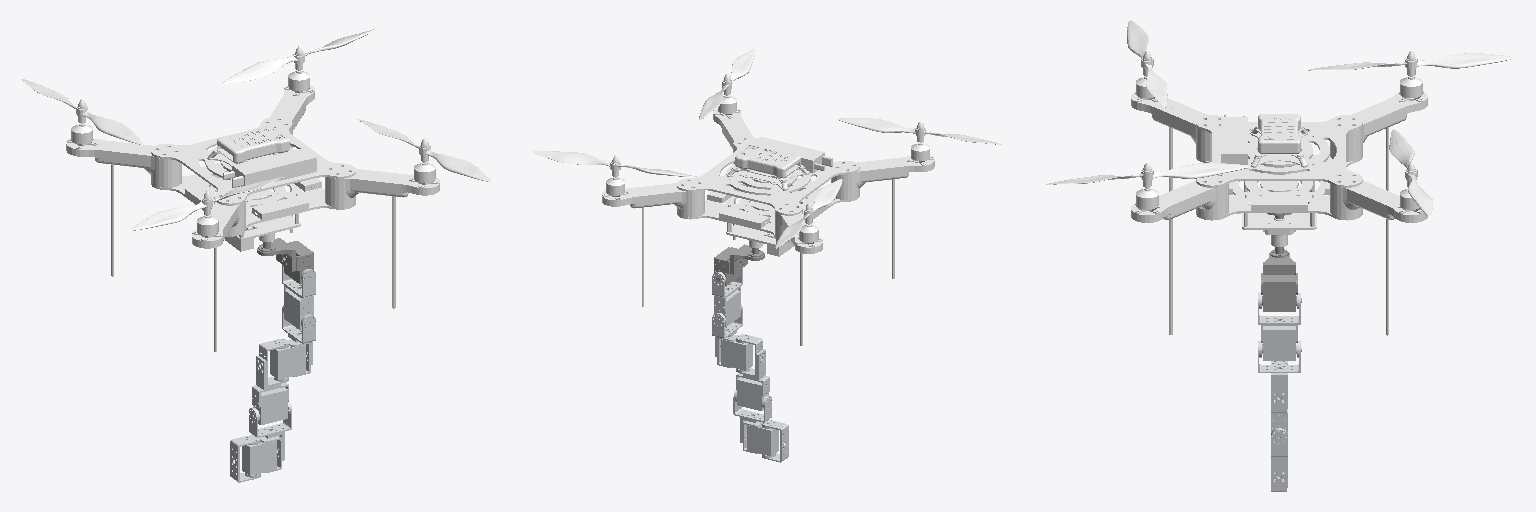
URDF robot description (hyper_robot2):
<?xml version="1.0" encoding="utf-8"?>
<!-- This URDF was automatically created by SolidWorks to URDF Exporter! Originally created by [author] ([email redacted]) 
     Commit Version: 1.6.0-4-g7f85cfe  Build Version: 1.6.7995.38578
     For more information, please see http://wiki.ros.org/sw_urdf_exporter -->
<robot
  name="hyper_robot2">
  <link
    name="base_link">
    <inertial>
      <origin
        xyz="-0.00080332 -0.0073137 -0.027846"
        rpy="0 0 0" />
      <mass
        value="1.4037" />
      <inertia
        ixx="0.0017764"
        ixy="-3.447E-06"
        ixz="2.1856E-07"
        iyy="0.0019607"
        iyz="2.7013E-07"
        izz="0.0032525" />
    </inertial>
    <visual>
      <origin
        xyz="0 0 0"
        rpy="0 0 0" />
      <geometry>
        <mesh
          filename="package://hyper_robot2/meshes/base_link.STL" />
      </geometry>
      <material
        name="">
        <color
          rgba="1 1 1 1" />
      </material>
    </visual>
    <collision>
      <origin
        xyz="0 0 0"
        rpy="0 0 0" />
      <geometry>
        <mesh
          filename="package://hyper_robot2/meshes/base_link.STL" />
      </geometry>
    </collision>
  </link>
  <link
    name="Link1">
    <inertial>
      <origin
        xyz="0.03091 3.5089E-05 -0.073107"
        rpy="0 0 0" />
      <mass
        value="0.11138" />
      <inertia
        ixx="2.6005E-05"
        ixy="-2.1401E-13"
        ixz="2.8039E-07"
        iyy="1.7177E-05"
        iyz="3.7239E-08"
        izz="1.71E-05" />
    </inertial>
    <visual>
      <origin
        xyz="0 0 0"
        rpy="0 0 0" />
      <geometry>
        <mesh
          filename="package://hyper_robot2/meshes/Link1.STL" />
      </geometry>
      <material
        name="">
        <color
          rgba="0.69804 0.69804 0.69804 1" />
      </material>
    </visual>
    <collision>
      <origin
        xyz="0 0 0"
        rpy="0 0 0" />
      <geometry>
        <mesh
          filename="package://hyper_robot2/meshes/Link1.STL" />
      </geometry>
    </collision>
  </link>
  <joint
    name="Joint0"
    type="continuous">
    <origin
      xyz="0.02 0 -0.07755"
      rpy="0 0 0" />
    <parent
      link="base_link" />
    <child
      link="Link1" />
    <axis
      xyz="0 0 1" />
  </joint>
  <link
    name="Link2">
    <inertial>
      <origin
        xyz="-1.2906E-15 0.044669 -7.8627E-06"
        rpy="0 0 0" />
      <mass
        value="0.089477" />
      <inertia
        ixx="2.6927E-05"
        ixy="2.4785E-19"
        ixz="-7.0271E-18"
        iyy="1.9359E-05"
        iyz="3.7239E-08"
        izz="1.3371E-05" />
    </inertial>
    <visual>
      <origin
        xyz="0 0 0"
        rpy="0 0 0" />
      <geometry>
        <mesh
          filename="package://hyper_robot2/meshes/Link2.STL" />
      </geometry>
      <material
        name="">
        <color
          rgba="0.89804 0.91765 0.92941 1" />
      </material>
    </visual>
    <collision>
      <origin
        xyz="0 0 0"
        rpy="0 0 0" />
      <geometry>
        <mesh
          filename="package://hyper_robot2/meshes/Link2.STL" />
      </geometry>
    </collision>
  </link>
  <joint
    name="Joint1"
    type="continuous">
    <origin
      xyz="0.0465 0 -0.1031"
      rpy="-1.5708 0 3.1416" />
    <parent
      link="Link1" />
    <child
      link="Link2" />
    <axis
      xyz="0 0 1" />
  </joint>
  <link
    name="Link3">
    <inertial>
      <origin
        xyz="0.010576 0.048595 3.4505E-05"
        rpy="0 0 0" />
      <mass
        value="0.092872" />
      <inertia
        ixx="2.0806E-05"
        ixy="1.9206E-07"
        ixz="1.1433E-18"
        iyy="1.7178E-05"
        iyz="-6.0089E-20"
        izz="2.3283E-05" />
    </inertial>
    <visual>
      <origin
        xyz="0 0 0"
        rpy="0 0 0" />
      <geometry>
        <mesh
          filename="package://hyper_robot2/meshes/Link3.STL" />
      </geometry>
      <material
        name="">
        <color
          rgba="0.89804 0.91765 0.92941 1" />
      </material>
    </visual>
    <collision>
      <origin
        xyz="0 0 0"
        rpy="0 0 0" />
      <geometry>
        <mesh
          filename="package://hyper_robot2/meshes/Link3.STL" />
      </geometry>
    </collision>
  </link>
  <joint
    name="Joint2"
    type="continuous">
    <origin
      xyz="0 0.06365 0"
      rpy="0 0 0" />
    <parent
      link="Link2" />
    <child
      link="Link3" />
    <axis
      xyz="0 0 1" />
  </joint>
  <link
    name="Link4">
    <inertial>
      <origin
        xyz="1.1274E-14 0.015686 0.069973"
        rpy="0 0 0" />
      <mass
        value="0.092872" />
      <inertia
        ixx="2.761E-05"
        ixy="1.2687E-20"
        ixz="-2.9881E-20"
        iyy="1.7538E-05"
        iyz="1.1758E-07"
        izz="1.6118E-05" />
    </inertial>
    <visual>
      <origin
        xyz="0 0 0"
        rpy="0 0 0" />
      <geometry>
        <mesh
          filename="package://hyper_robot2/meshes/Link4.STL" />
      </geometry>
      <material
        name="">
        <color
          rgba="0.89804 0.91765 0.92941 1" />
      </material>
    </visual>
    <collision>
      <origin
        xyz="0 0 0"
        rpy="0 0 0" />
      <geometry>
        <mesh
          filename="package://hyper_robot2/meshes/Link4.STL" />
      </geometry>
    </collision>
  </link>
  <joint
    name="Joint3"
    type="continuous">
    <origin
      xyz="0.02565 0.031 0"
      rpy="-1.5708 -1.5708 0" />
    <parent
      link="Link3" />
    <child
      link="Link4" />
    <axis
      xyz="0 0 1" />
  </joint>
  <link
    name="Link5">
    <inertial>
      <origin
        xyz="3.6611E-14 0.048595 -0.026541"
        rpy="0 0 0" />
      <mass
        value="0.092872" />
      <inertia
        ixx="2.761E-05"
        ixy="4.7957E-21"
        ixz="-4.0259E-20"
        iyy="1.7178E-05"
        iyz="-1.9206E-07"
        izz="1.6478E-05" />
    </inertial>
    <visual>
      <origin
        xyz="0 0 0"
        rpy="0 0 0" />
      <geometry>
        <mesh
          filename="package://hyper_robot2/meshes/Link5.STL" />
      </geometry>
      <material
        name="">
        <color
          rgba="0.89804 0.91765 0.92941 1" />
      </material>
    </visual>
    <collision>
      <origin
        xyz="0 0 0"
        rpy="0 0 0" />
      <geometry>
        <mesh
          filename="package://hyper_robot2/meshes/Link5.STL" />
      </geometry>
    </collision>
  </link>
  <joint
    name="Joint4"
    type="continuous">
    <origin
      xyz="0 0 0.09265"
      rpy="1.5708 0 0" />
    <parent
      link="Link4" />
    <child
      link="Link5" />
    <axis
      xyz="0 0 1" />
  </joint>
  <link
    name="Link6">
    <inertial>
      <origin
        xyz="3.652E-14 0.012025 0.0262"
        rpy="0 0 0" />
      <mass
        value="0.016021" />
      <inertia
        ixx="6.138E-06"
        ixy="6.3821E-22"
        ixz="2.3592E-21"
        iyy="5.3342E-06"
        iyz="1.9145E-21"
        izz="1.8104E-06" />
    </inertial>
    <visual>
      <origin
        xyz="0 0 0"
        rpy="0 0 0" />
      <geometry>
        <mesh
          filename="package://hyper_robot2/meshes/Link6.STL" />
      </geometry>
      <material
        name="">
        <color
          rgba="0.89804 0.91765 0.92941 1" />
      </material>
    </visual>
    <collision>
      <origin
        xyz="0 0 0"
        rpy="0 0 0" />
      <geometry>
        <mesh
          filename="package://hyper_robot2/meshes/Link6.STL" />
      </geometry>
    </collision>
  </link>
  <joint
    name="Joint5"
    type="continuous">
    <origin
      xyz="0 0.031 -0.04165"
      rpy="-1.5708 0 0" />
    <parent
      link="Link5" />
    <child
      link="Link6" />
    <axis
      xyz="0 0 1" />
  </joint>
</robot>

--- Facts derived from the render (not from the file) ---
3 views of the same robot in one strip: view 1: azimuth 30°, elevation 25°; view 2: azimuth 150°, elevation 25°; view 3: azimuth 270°, elevation 25° (orthographic).
Robot: hyper_robot2 — 7 links, 6 joints (6 continuous); root link base_link; default pose: all joints at 0.
Links seen in each view (by area): view 1: base_link, Link5, Link4, Link3, Link2, Link1, Link6; view 2: base_link, Link5, Link4, Link3, Link2, Link1, Link6; view 3: base_link, Link1, Link2, Link3, Link5.
Link boxes in pixels (x1=…): base_link: x1=21, y1=29, x2=491, y2=351; Link5: x1=242, y1=401, x2=291, y2=475; Link4: x1=251, y1=339, x2=288, y2=424; Link3: x1=270, y1=305, x2=315, y2=379; Link2: x1=282, y1=265, x2=315, y2=330; Link1: x1=257, y1=238, x2=313, y2=284; Link6: x1=230, y1=435, x2=260, y2=482; base_link: x1=533, y1=49, x2=1001, y2=345; Link5: x1=733, y1=390, x2=778, y2=455; Link4: x1=736, y1=334, x2=769, y2=410; Link3: x1=712, y1=304, x2=752, y2=370; Link2: x1=712, y1=268, x2=742, y2=326; Link1: x1=714, y1=244, x2=764, y2=285; Link6: x1=762, y1=420, x2=788, y2=462; base_link: x1=1046, y1=20, x2=1513, y2=335; Link1: x1=1261, y1=213, x2=1301, y2=311; Link2: x1=1258, y1=293, x2=1301, y2=360; Link3: x1=1258, y1=341, x2=1300, y2=412; Link5: x1=1271, y1=428, x2=1287, y2=491.
Size in the robot's own frame: 0.5619 by 0.5616 by 0.496 metres.
7 mesh visuals loaded from 7 distinct referenced files (7 binary STL).